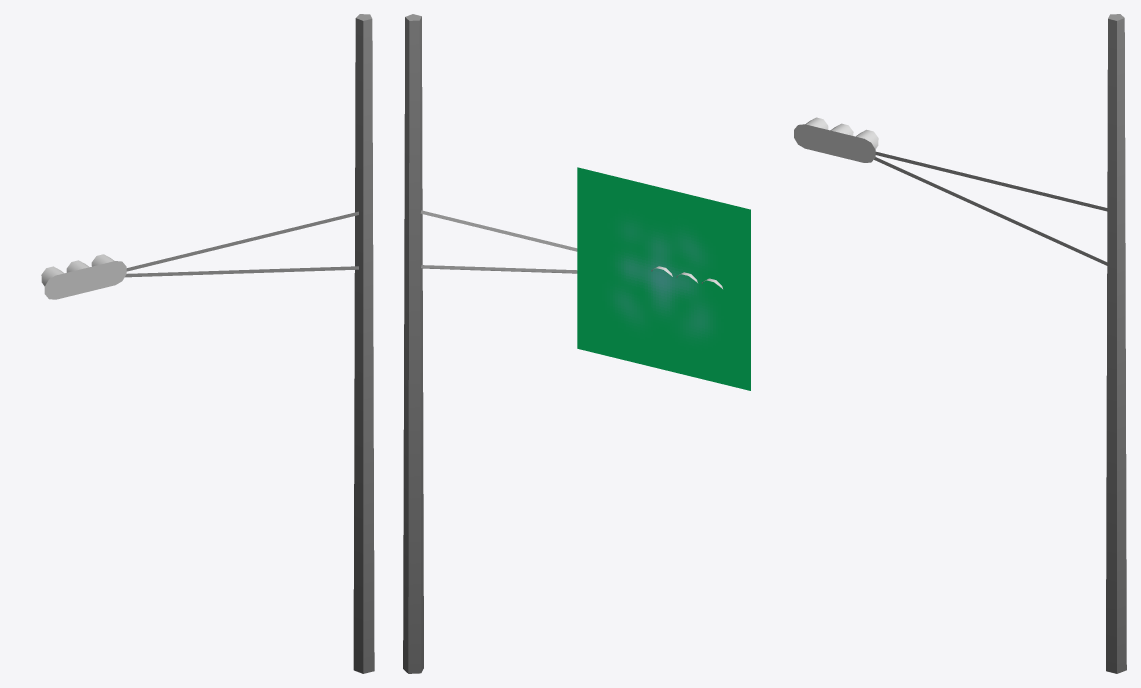
Rendered from SIGNAL_ROMEN_BLUE.glb.
3 views of the same model, side by side, from view 1: azimuth 30°, elevation 25°; view 2: azimuth 150°, elevation 25°; view 3: azimuth 330°, elevation 25° (orthographic).
Visible parts, largest first — view 1: Model; view 2: Model; view 3: Model.
Boxes of the visible parts, x1,y1,x2,y2 form: Model: [41, 14, 374, 673]; Model: [403, 14, 750, 673]; Model: [794, 14, 1126, 673].
Bounding box in the file's own units: 18.35 × 32.42 × 1.24.
2 materials, 1 textured.
